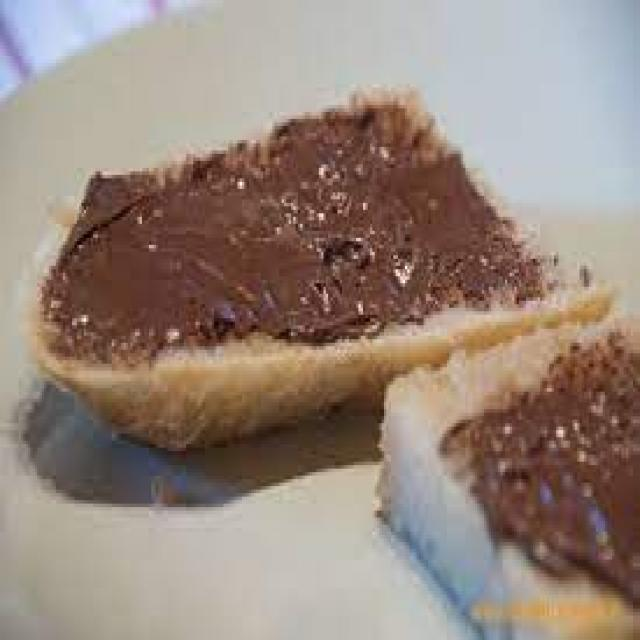Spread: (37, 112, 531, 318), (437, 339, 640, 591)
